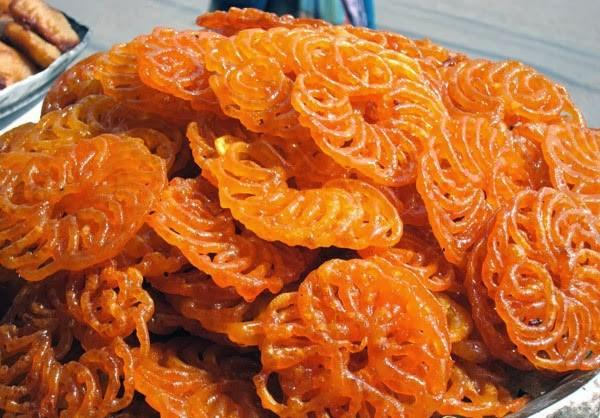Jalebi: (0, 5, 600, 418)
